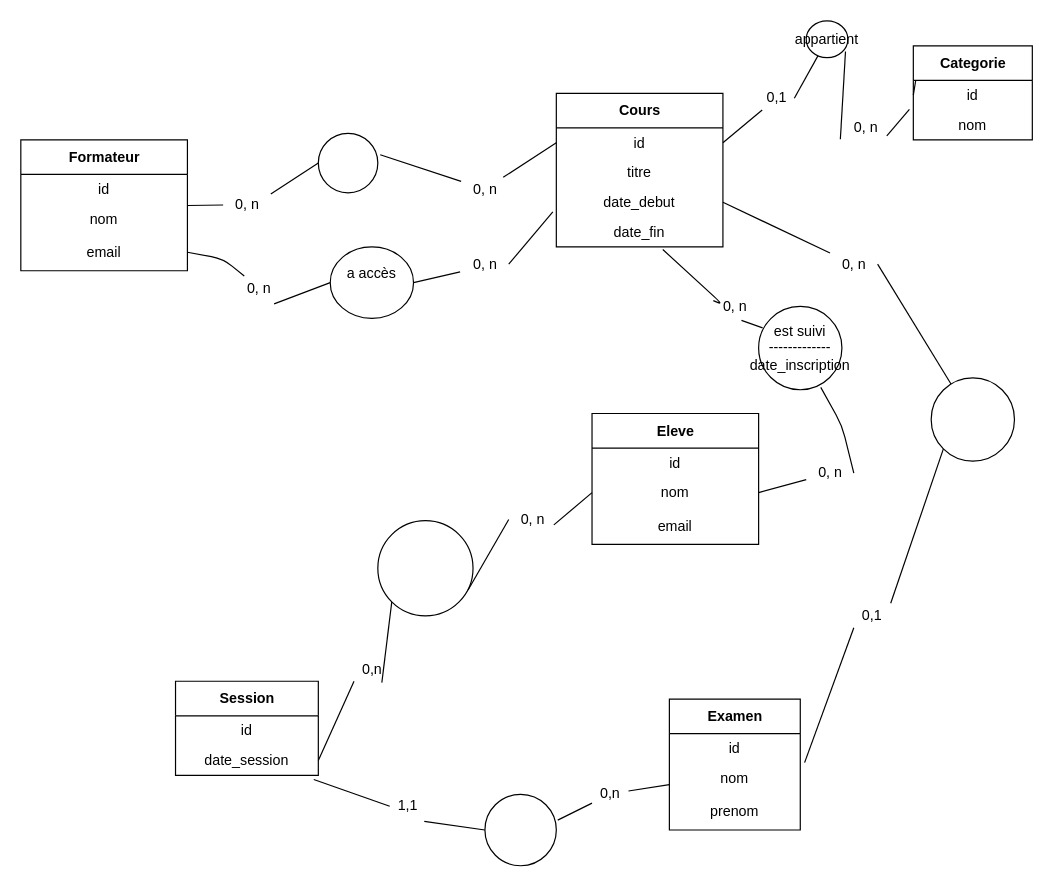
This 1053x887 diagram has some shape labels left out. Here are the shapes that lost their labels. From the top down, the centre of each, then its label:
(347,162): crée
(972,419): Contient
(425,567): participe ----------------- date_examen
(520,829): correspond --------------
